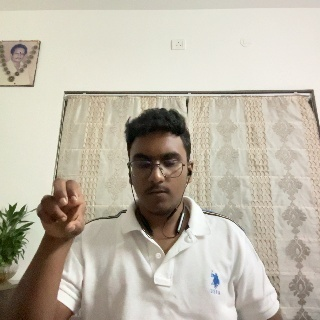Face: (123, 108, 193, 214)
No: (36, 179, 85, 267)
